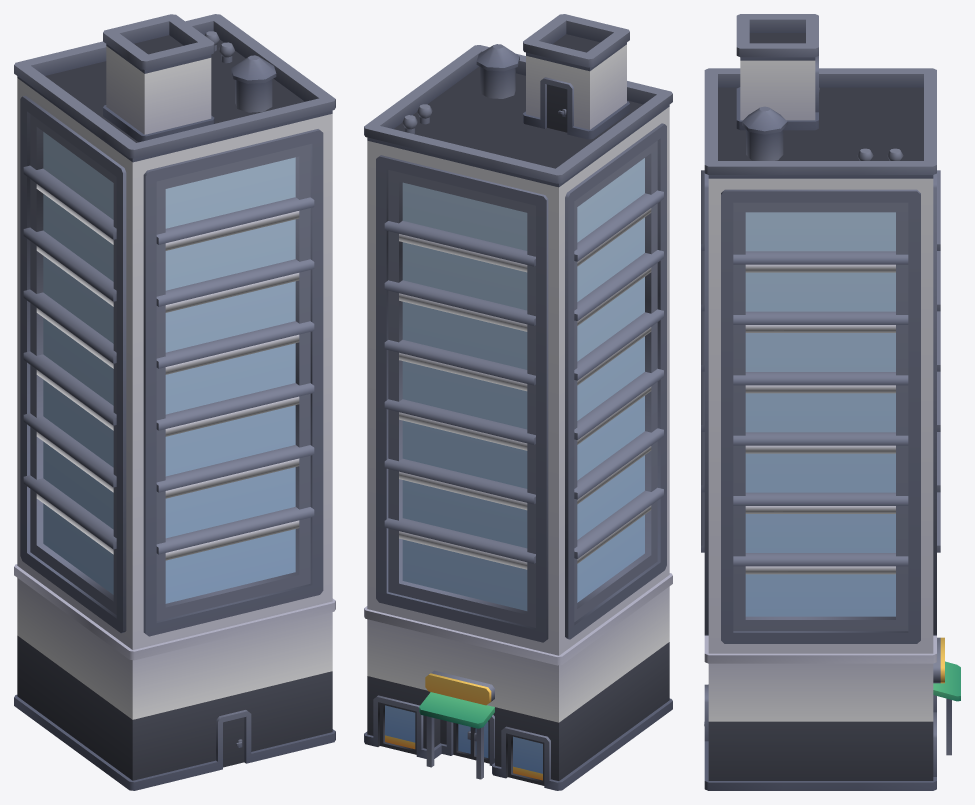
File: building_skyscraper_c.glb
3 views of the same model, side by side, from view 1: azimuth 30°, elevation 25°; view 2: azimuth 150°, elevation 25°; view 3: azimuth 270°, elevation 25° (orthographic). The views are drawn at different scales.
Parts seen in each view (by area): view 1: building-skyscraper-c; view 2: building-skyscraper-c; view 3: building-skyscraper-c.
Boxes of the visible parts, bbox=[...] form: building-skyscraper-c: bbox=[14, 14, 335, 790]; building-skyscraper-c: bbox=[364, 14, 672, 790]; building-skyscraper-c: bbox=[701, 14, 960, 790].
Size of the model in its own units: 1.28 by 4.08 by 1.39.
Materials: 1 (1 with a texture image).
